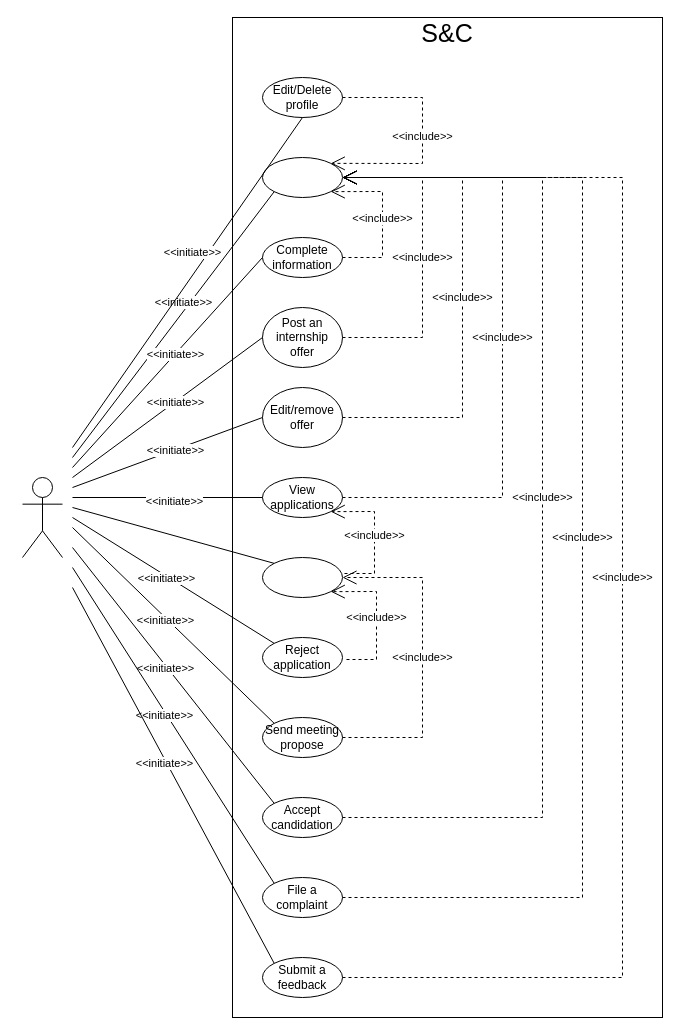
Some shapes in this 680 by 1035 pixel diagram are drawn without their labels. Each missing label, with the centre of its shape:
"Company" belongs at (x=42, y=517).
"Login" belongs at (x=302, y=177).
"View student details" belongs at (x=302, y=577).
